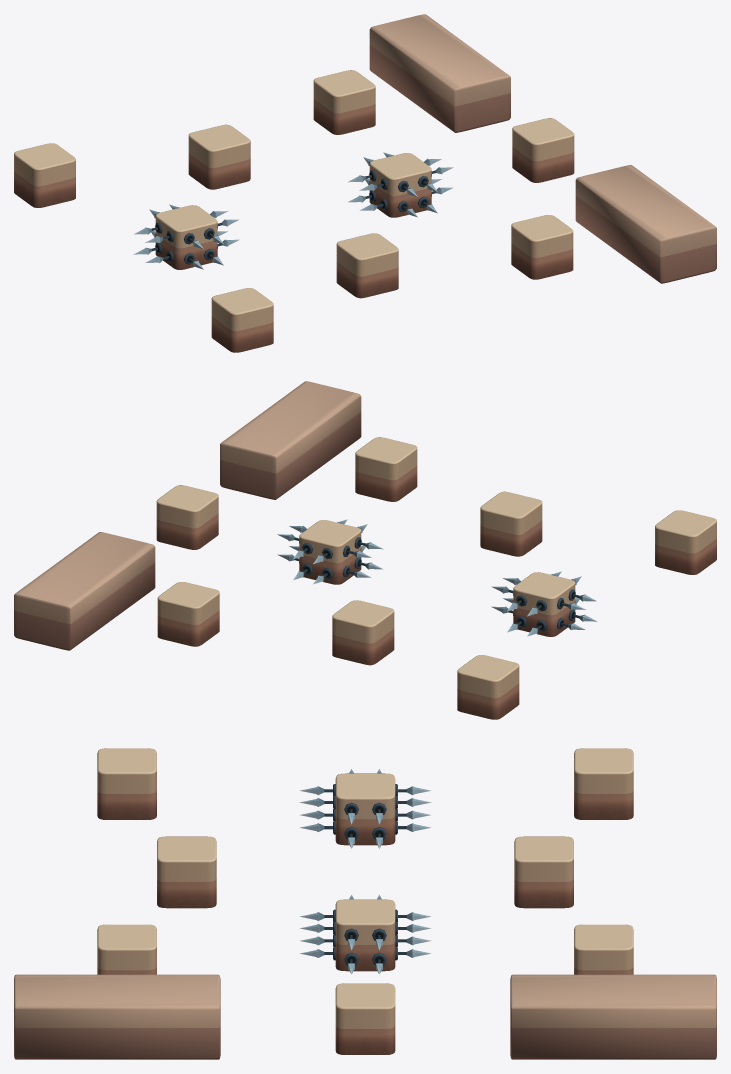
The model's file is Props.fbx.
3 views of the same model, one above another, from view 1: azimuth 30°, elevation 25°; view 2: azimuth 150°, elevation 25°; view 3: azimuth 270°, elevation 25° (orthographic). The views are drawn at different scales.
Parts seen in each view (by area): view 1: Box01 (×9), Box20-2 (2), Box20-2 (3); view 2: Box01 (×9), Box20-2 (3), Box20-2 (2); view 3: Box01 (×9), Box20-2 (2), Box20-2 (3).
Boxes of the visible parts, x1,y1,x2,y2 form: Box01 (×9): (14, 70, 574, 352); Box20-2 (2): (575, 165, 716, 283); Box20-2 (3): (369, 14, 510, 132); Box01 (×9): (156, 437, 716, 719); Box20-2 (3): (14, 532, 155, 650); Box20-2 (2): (220, 381, 361, 499); Box01 (×9): (97, 748, 633, 1054); Box20-2 (2): (14, 974, 220, 1059); Box20-2 (3): (510, 974, 716, 1059).
Bounding box in the file's own units: 31.5 × 3 × 35.4.
3 materials, 3 textured.
